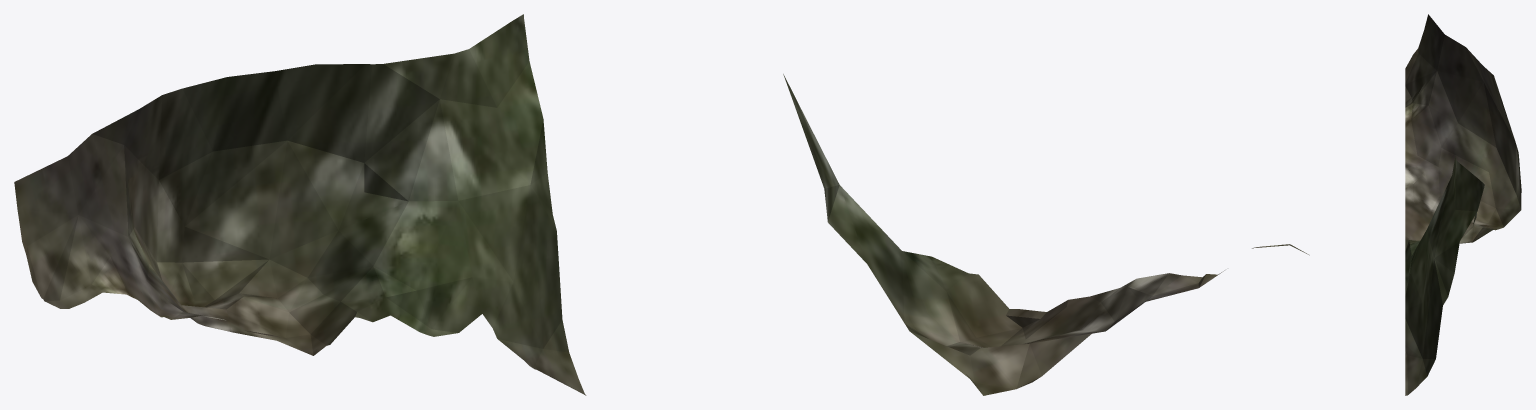
3 views of the same model, side by side, from view 1: azimuth 30°, elevation 25°; view 2: azimuth 150°, elevation 25°; view 3: azimuth 270°, elevation 25° (orthographic). The views are drawn at different scales.
Bounding box in the file's own units: 2.95 × 1.71 × 0.8493.
Materials: 2 (2 with a texture image).
